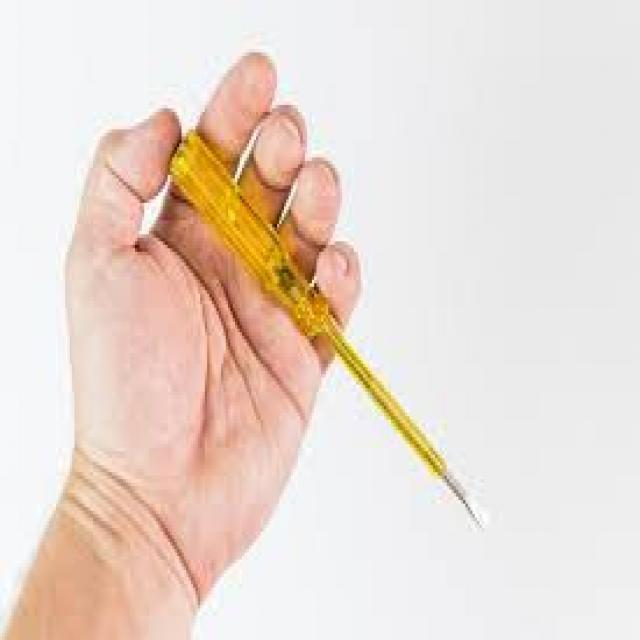screwdriver: (165, 126, 491, 532)
